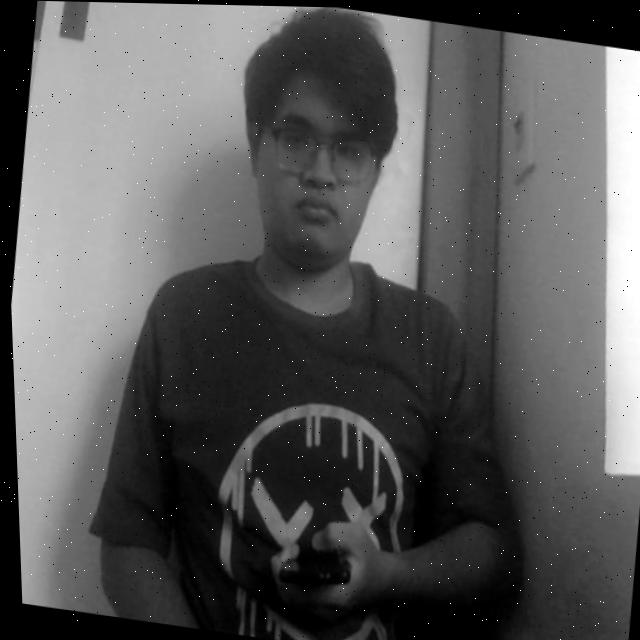phone: (254, 518, 365, 620)
